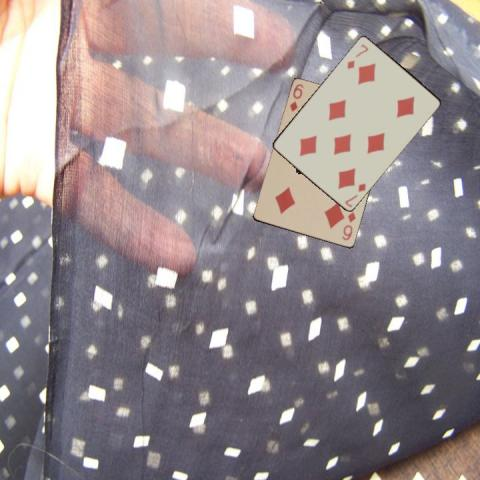6d: (339, 209, 357, 242), (286, 81, 304, 113)
7d: (344, 41, 370, 70), (342, 180, 368, 209)
